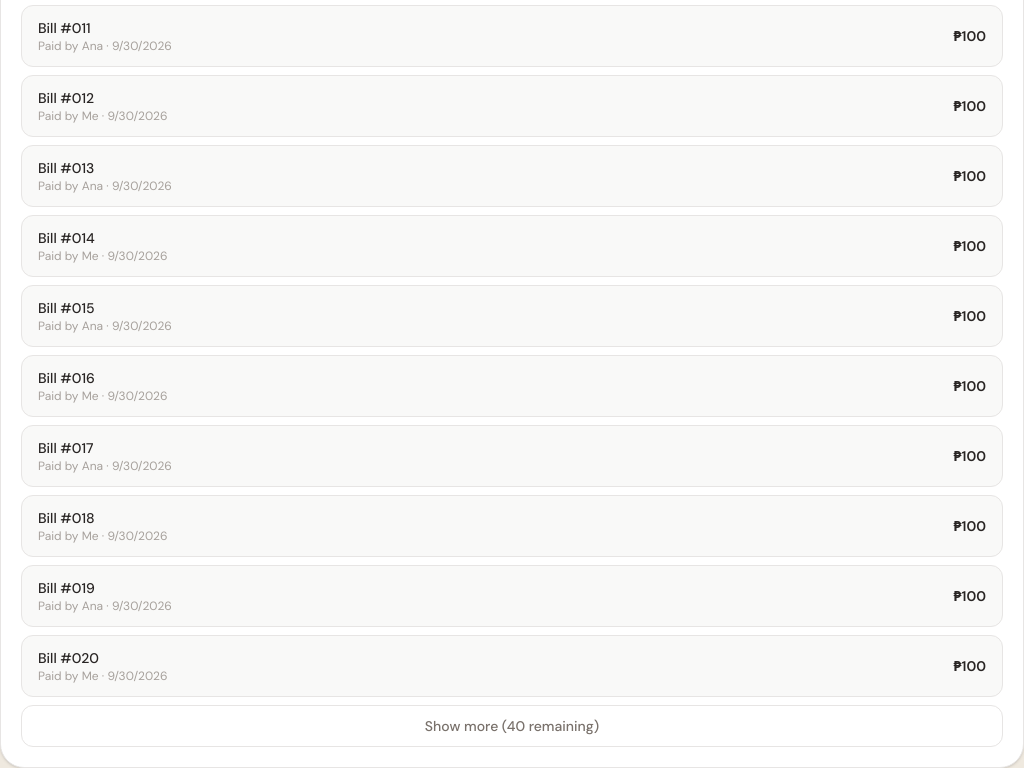
Test: GroupDetailPage bills, server-paged › C6: a bump with 40 rows loaded reloads every loaded row and keeps them on screen
(page scrolled)
Click the button "Show more (40 remaining)".
click(512, 726)  # box [21,705,1003,747]
(page scrolled)
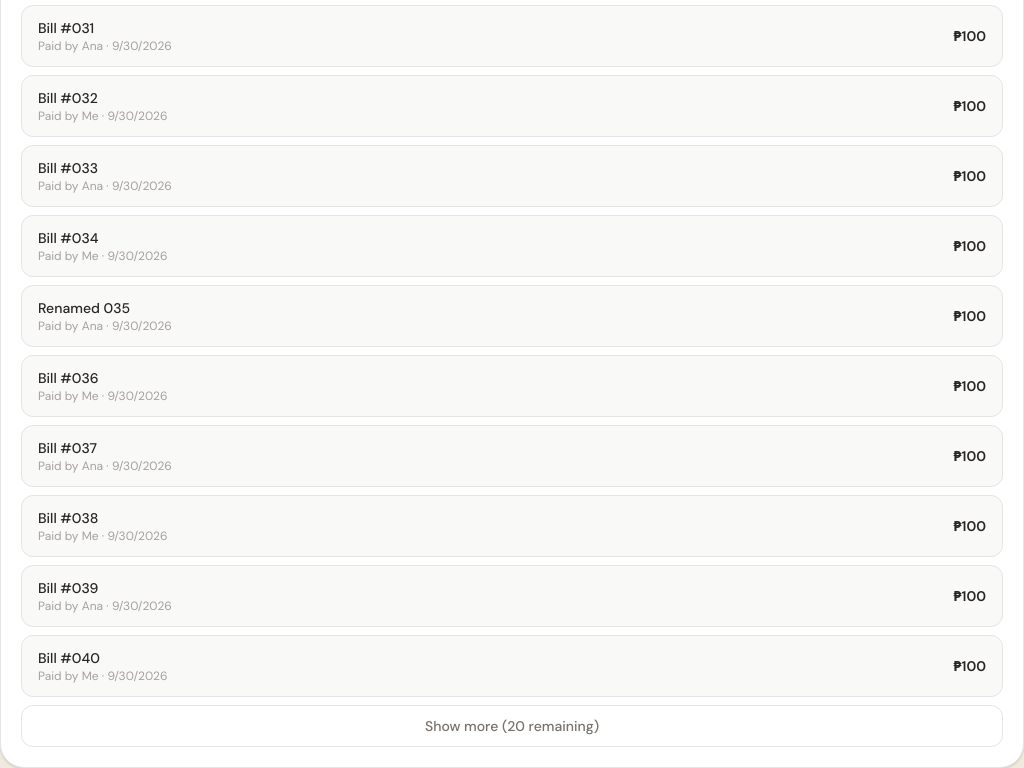
Expected: the text "Bill #040" is shown, [38,648,100,668]
Expected: the text "Renamed 035" is shown, [38,298,130,318]
Expected: the button "Show more (20 remaining)" is shown, [21,705,1003,747]
